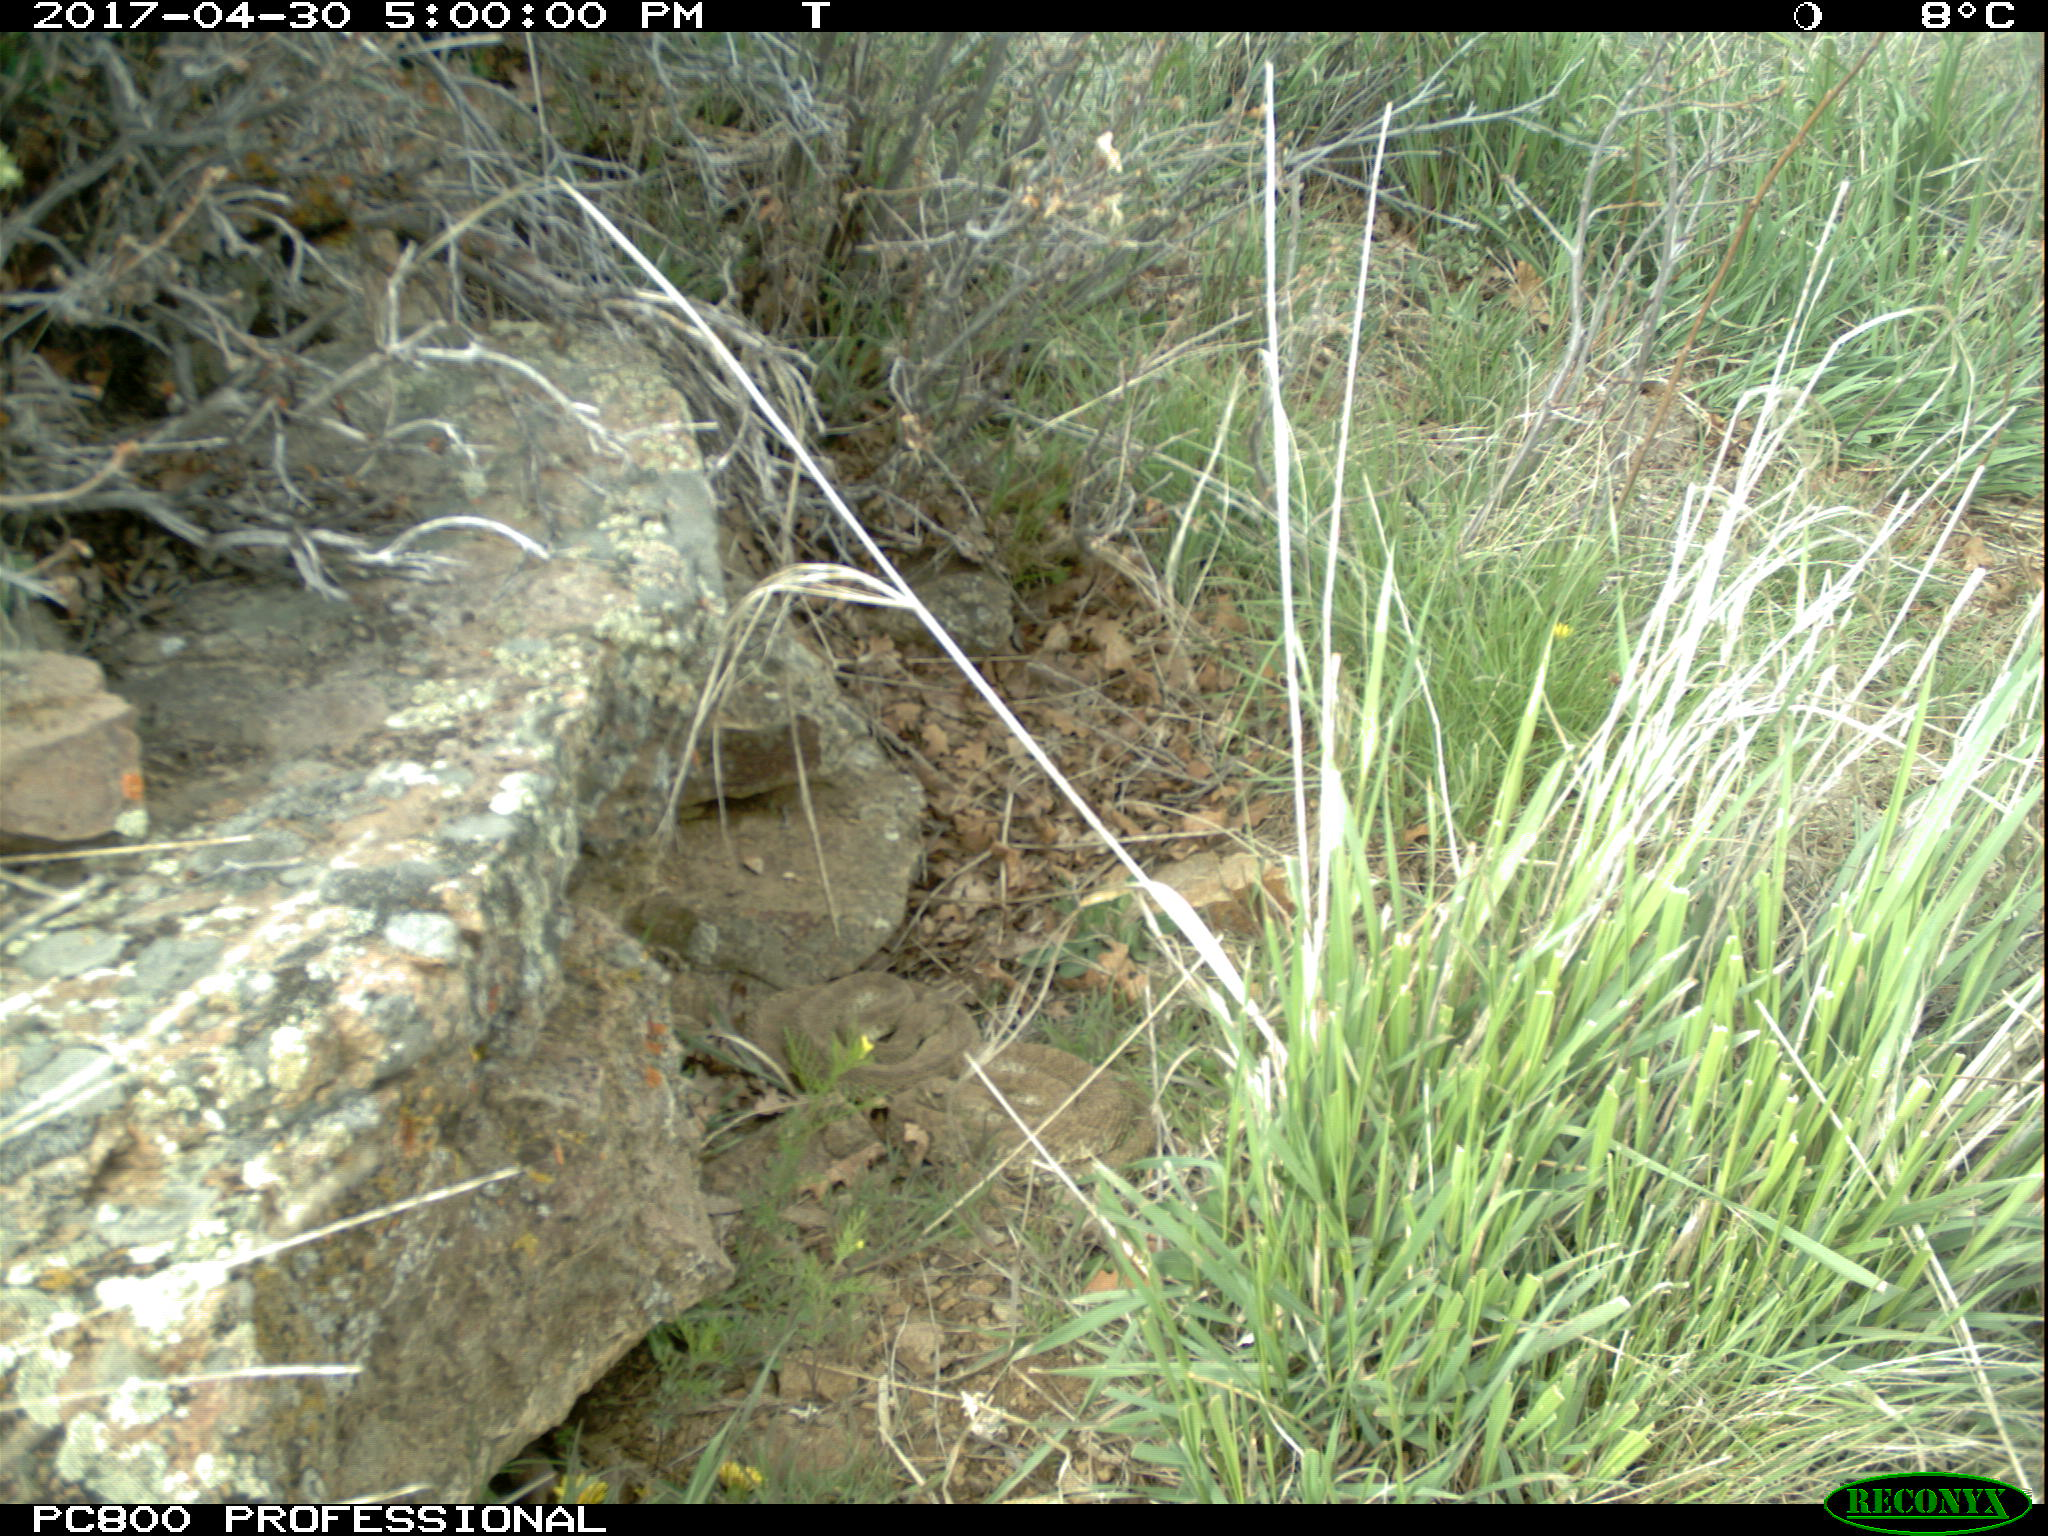snake: (739, 975, 1150, 1175)
